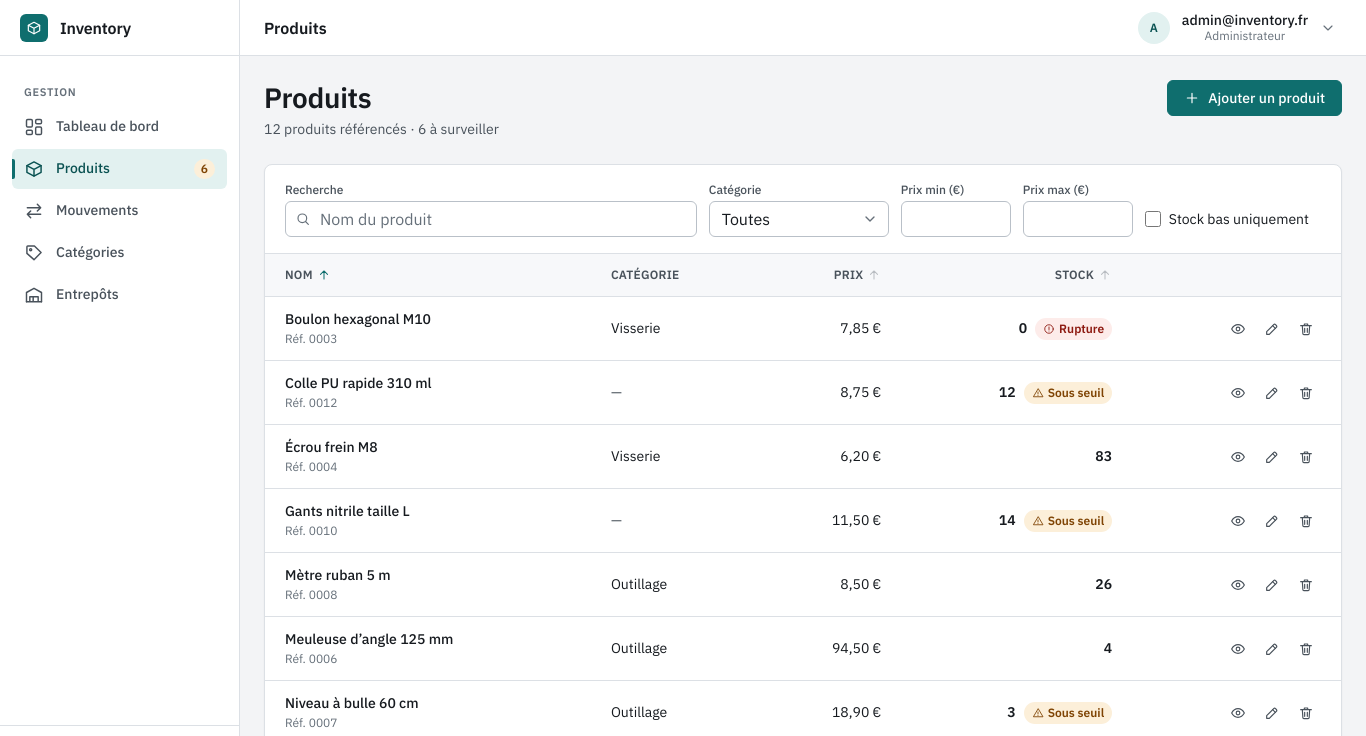
Test: ProductsPage › filters › shows only the low-stock products
Expected: the heading "Produits" is shown, [264,79,372,116]
Click the checkbox labelled "Stock bas uniquement": (1153, 219) [1145,211,1161,227]
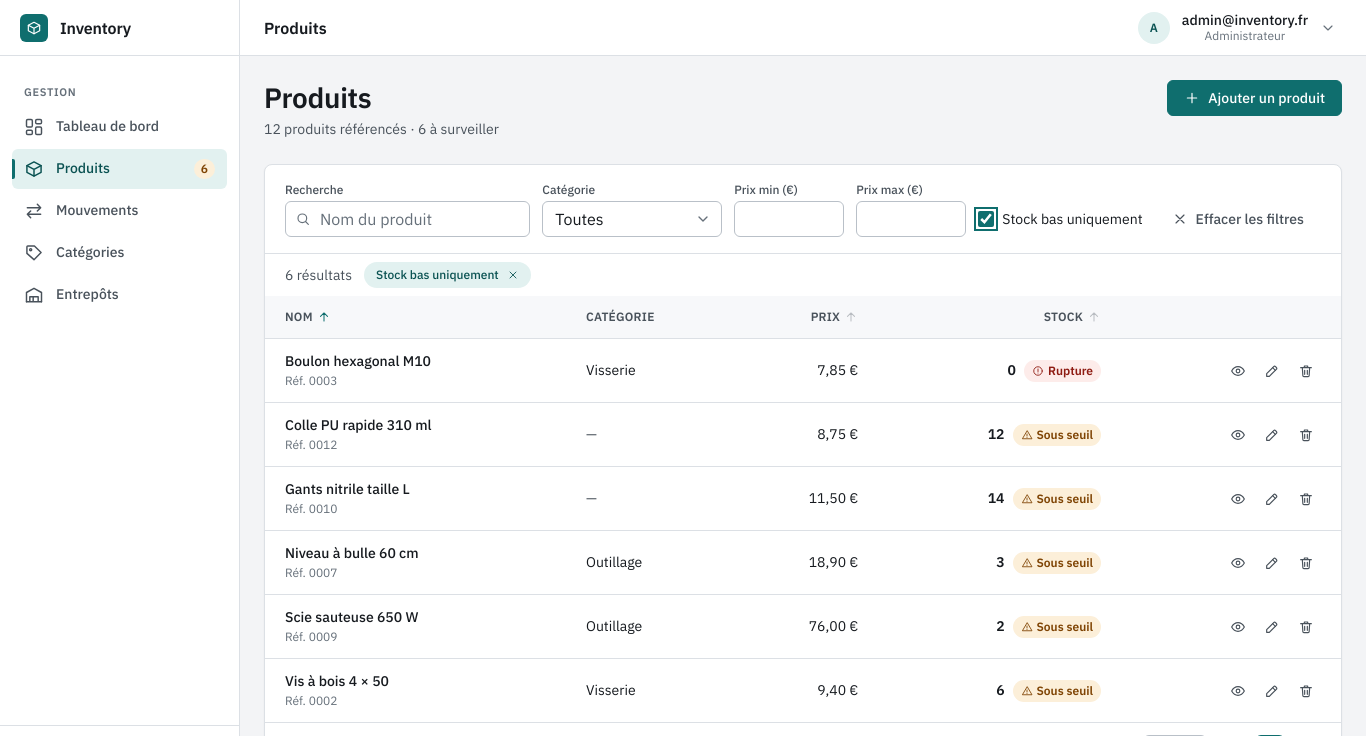
Expected: the text "6 résultats" is shown, [285,264,352,286]
Click the checkbox labelled "Stock bas uniquement": (986, 219) [978,211,994,227]
(page scrolled)
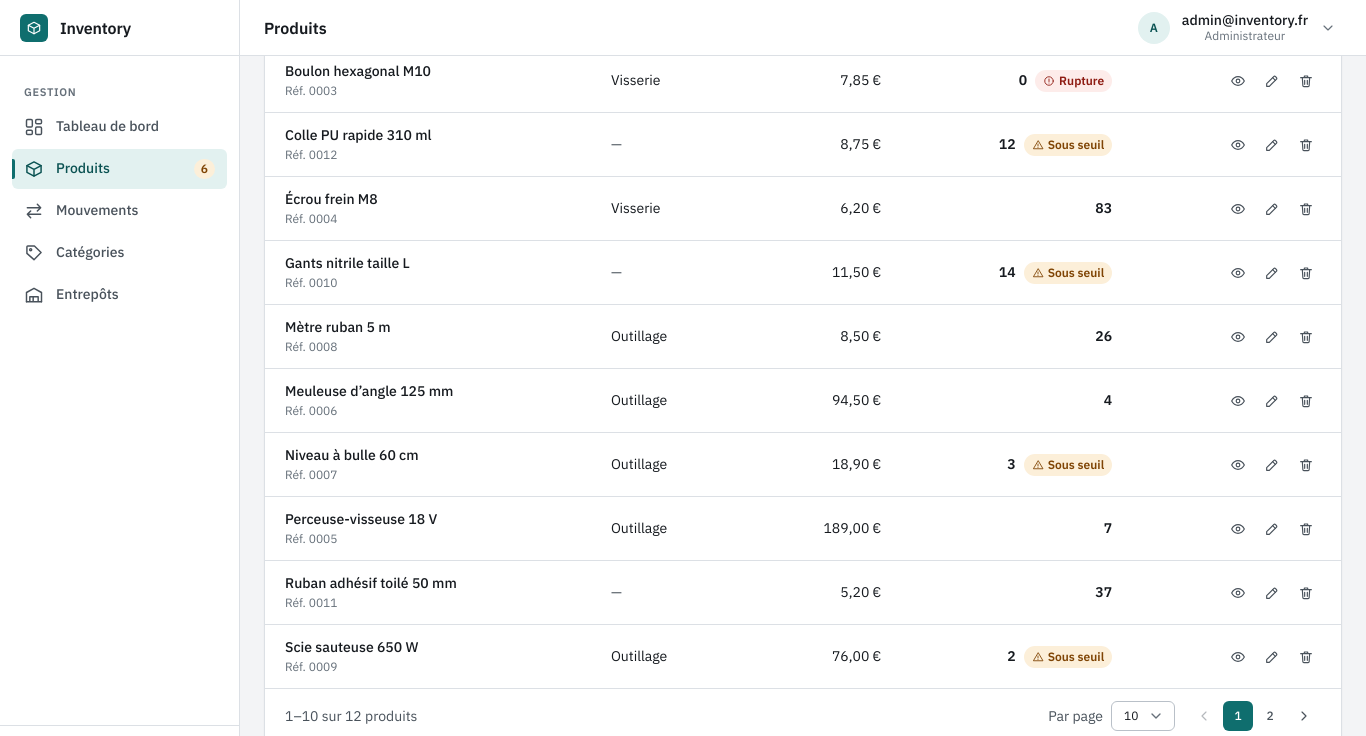
Expected: the text "1–10 sur 12 produits" is shown, [285,706,417,724]
